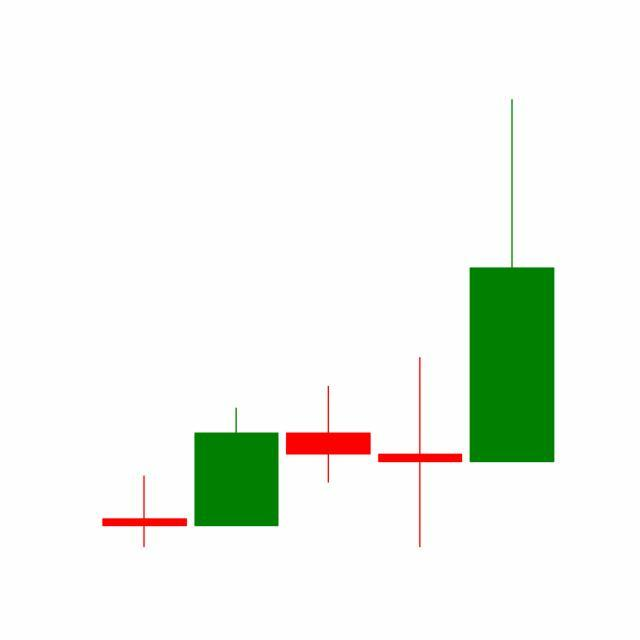Spinning Top: (374, 355, 468, 550)
